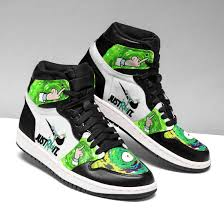nike: (112, 72, 146, 118), (42, 114, 70, 153)
